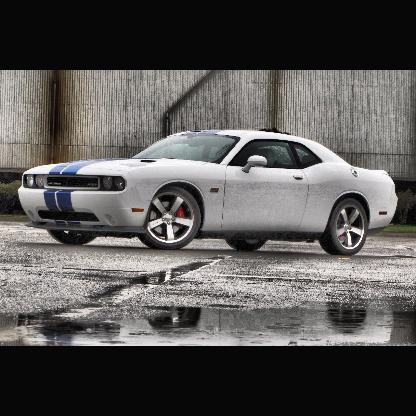Dodge Challenger SRT8 2011: (18, 129, 402, 259)
